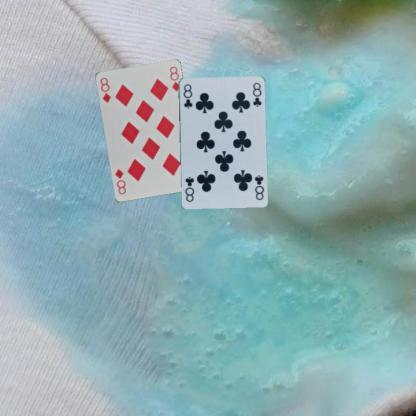8c: (251, 172, 266, 201), (181, 82, 193, 110)
8d: (97, 75, 112, 104)
